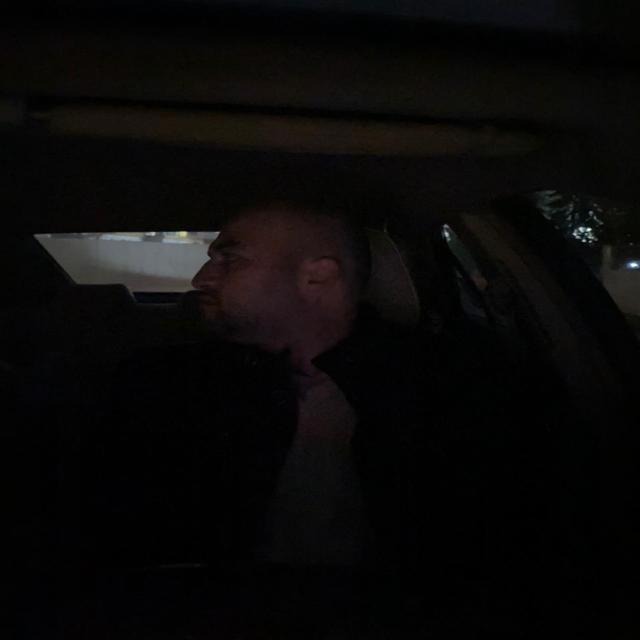LeftRight: (180, 210, 380, 336)
